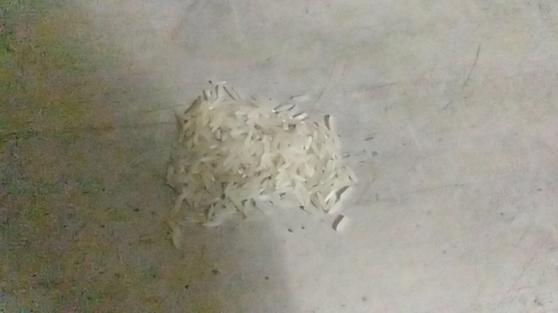rice: (161, 72, 368, 259)
